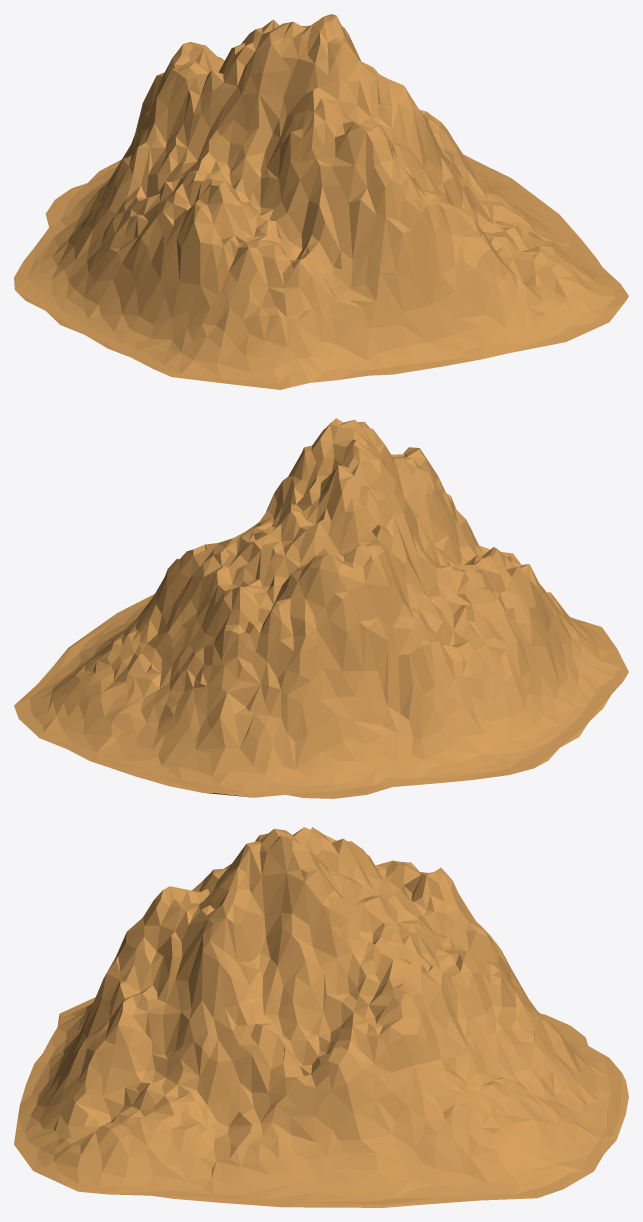
Rendered from Mounting_1.fbx.
The picture shows the model from 3 angles, top to bottom: view 1: azimuth 30°, elevation 25°; view 2: azimuth 150°, elevation 25°; view 3: azimuth 270°, elevation 25°; orthographic projection. The views are drawn at different scales.
Visible parts, largest first — view 1: Mounting_1; view 2: Mounting_1; view 3: Mounting_1.
Boxes of the visible parts, bbox=[...] form: Mounting_1: bbox=[14, 14, 628, 389]; Mounting_1: bbox=[14, 418, 628, 798]; Mounting_1: bbox=[14, 827, 628, 1207].
Bounding box in the file's own units: 1572 × 780 × 1675.
